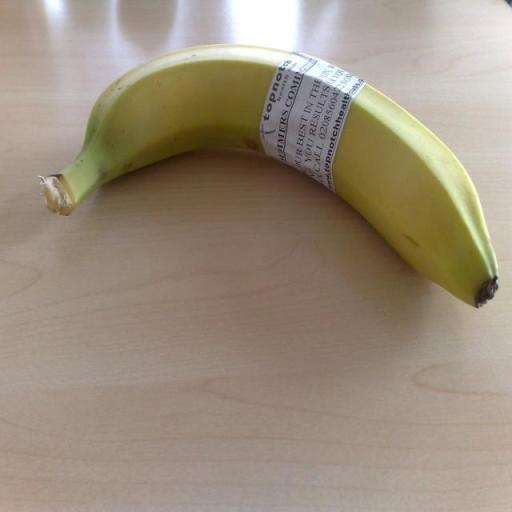fruit: (152, 76, 512, 340), (50, 67, 110, 239)
